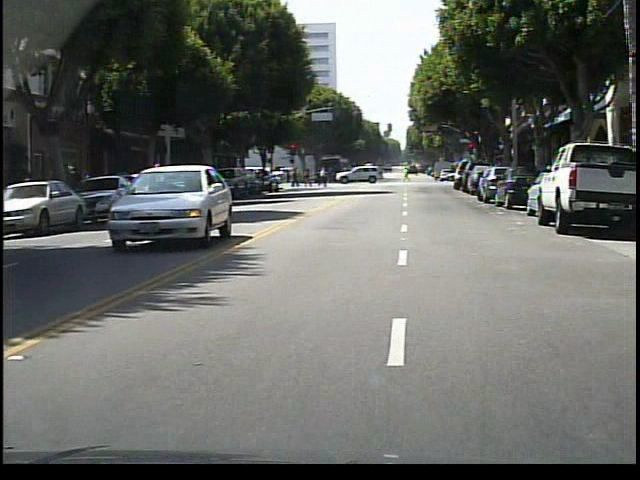person: (316, 163, 336, 193)
